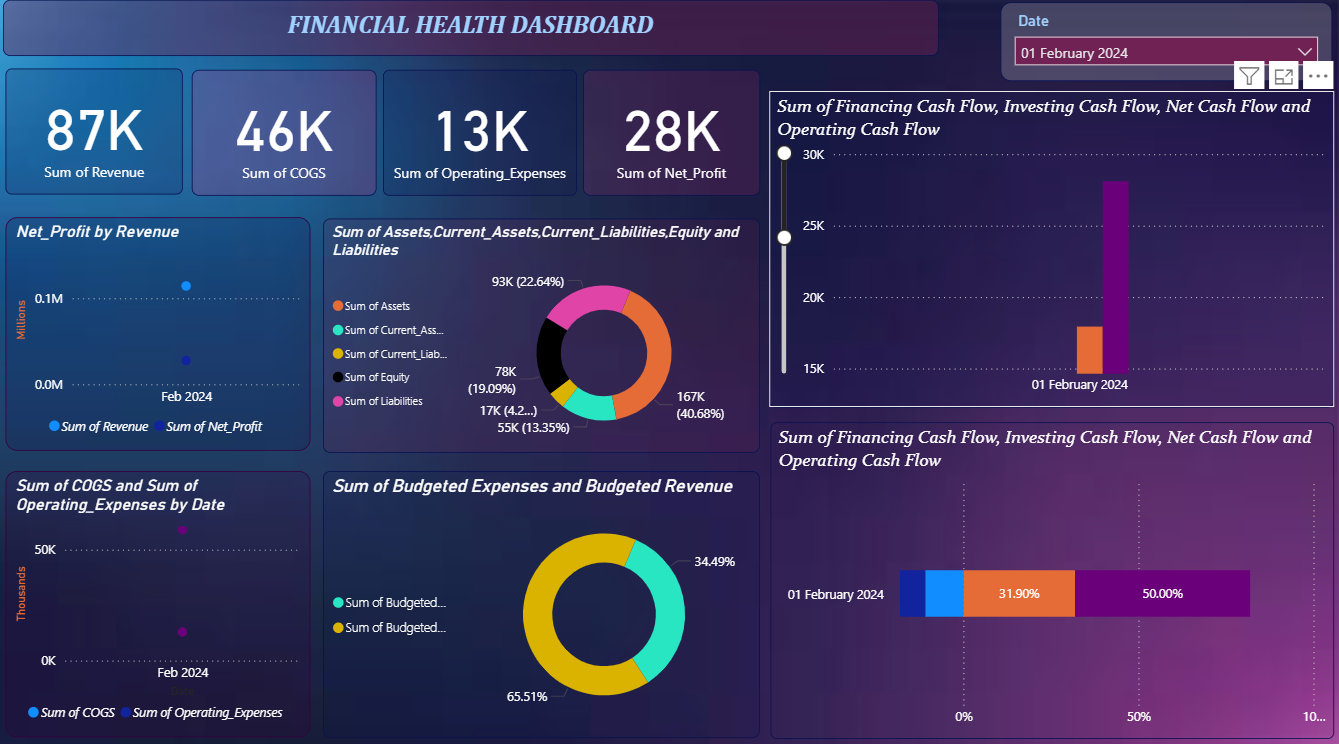

The page's visual inventory and layout, read from the dashboard file:
{"tool":"powerbi","page":{"name":"Page 1","canvas":[1280,720],"ordinal":0},"visuals":[{"type":"textbox","box":[5,3.8,891.2,53.8],"z":0},{"type":"stackedAreaChart","title":"Net_Profit by Revenue","fields":{"Y":["Sum(Income_Statement.Revenue)","Sum(Income_Statement.Net_Profit)"],"Category":["Income_Statement.Date"]},"box":[7.5,211.2,290,222.5],"z":1000},{"type":"card","fields":{"Values":["Sum(Income_Statement.Revenue)"]},"box":[7.1,69,169,120.2],"z":2000},{"type":"stackedAreaChart","fields":{"Category":["Income_Statement.Date"],"Y":["Sum(Income_Statement.COGS)","Sum(Income_Statement.Operating_Expenses)"]},"box":[7.5,452.5,290,253.8],"z":3000},{"type":"card","fields":{"Values":["Sum(Income_Statement.COGS)"]},"box":[184.5,70.2,176.2,120.2],"z":4000},{"type":"card","fields":{"Values":["Sum(Income_Statement.Operating_Expenses)"]},"box":[366.7,70.2,184.5,120.2],"z":5000},{"type":"slicer","fields":{"Values":["Budget.Date Hierarchy.Date"]},"box":[955,6.2,316.2,75],"z":6000},{"type":"card","fields":{"Values":["Sum(Income_Statement.Net_Profit)"]},"box":[557.1,70.2,169,120.2],"z":7000},{"type":"donutChart","title":"Sum of Assets,Current_Assets,Current_Liabilities,Equity and Liabilities","fields":{"Y":["Sum(Balance_Sheet.Assets)","Sum(Balance_Sheet.Current_Assets)","Sum(Balance_Sheet.Current_Liabilities)","Sum(Balance_Sheet.Equity)","Sum(Balance_Sheet.Liabilities)"]},"box":[310,211.4,415.7,222.9],"z":8000},{"type":"donutChart","title":"Sum of Budgeted Expenses and Budgeted Revenue ","fields":{"Y":["Sum(Budget.Budgeted_Expenses)","Sum(Budget.Budgeted_Revenue)"]},"box":[310,452.9,415.7,254.3],"z":9000},{"type":"clusteredColumnChart","title":"Sum of Financing Cash Flow, Investing Cash Flow, Net Cash Flow and Operating Cash Flow","fields":{"Category":["Cash_Flow.Date"],"Y":["Sum(Cash_Flow.Financing_Cash_Flow)","Sum(Cash_Flow.Investing_Cash_Flow)","Sum(Cash_Flow.Net_Cash_Flow)","Sum(Cash_Flow.Operating_Cash_Flow)"]},"box":[735,90,537.5,301.2],"z":10000},{"type":"hundredPercentStackedBarChart","title":"Sum of Financing Cash Flow, Investing Cash Flow, Net Cash Flow and Operating Cash Flow","fields":{"Category":["Cash_Flow.Date"],"Y":["Sum(Cash_Flow.Financing_Cash_Flow)","Sum(Cash_Flow.Investing_Cash_Flow)","Sum(Cash_Flow.Net_Cash_Flow)","Sum(Cash_Flow.Operating_Cash_Flow)"]},"box":[735.7,405.7,537.1,301.4],"z":11000}]}

Visuals, with their boxes in screenshot pixels (x1, y1, x2, y2), scaled from the page's 1280x720 canvas onto the 1339x744 screenshot:
textbox: 5/4/938/60
"Net_Profit by Revenue" stackedAreaChart: 8/218/311/448
card - Sum(Income_Statement.Revenue): 7/71/184/196
stackedAreaChart - Income_Statement.Date x Sum(Income_Statement.COGS): 8/468/311/730
card - Sum(Income_Statement.COGS): 193/73/377/197
card - Sum(Income_Statement.Operating_Expenses): 384/73/577/197
slicer - Budget.Date Hierarchy.Date: 999/6/1330/84
card - Sum(Income_Statement.Net_Profit): 583/73/760/197
"Sum of Assets,Current_Assets,Current_Liabilities,Equity and Liabilities" donutChart: 324/218/759/449
"Sum of Budgeted Expenses and Budgeted Revenue " donutChart: 324/468/759/731
"Sum of Financing Cash Flow, Investing Cash Flow, Net Cash Flow and Operating Cash Flow" clusteredColumnChart: 769/93/1331/404
"Sum of Financing Cash Flow, Investing Cash Flow, Net Cash Flow and Operating Cash Flow" hundredPercentStackedBarChart: 770/419/1331/731
